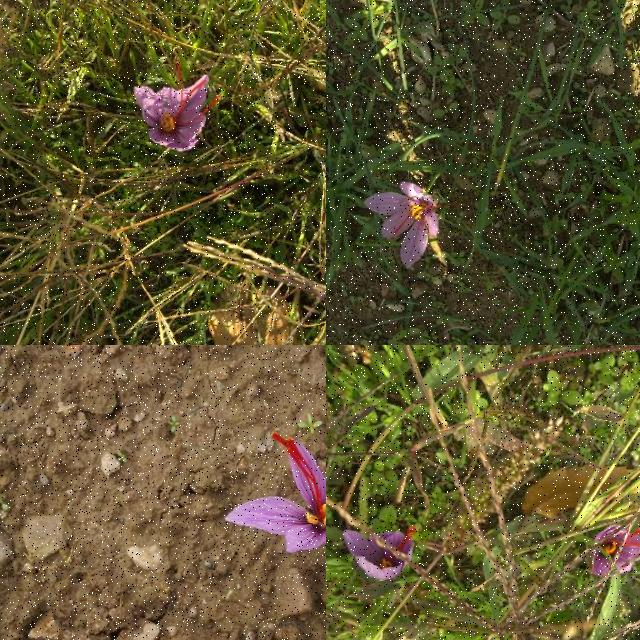flower: (226, 418, 326, 563), (134, 64, 223, 152), (364, 181, 440, 269), (344, 526, 416, 582), (590, 521, 640, 579)
